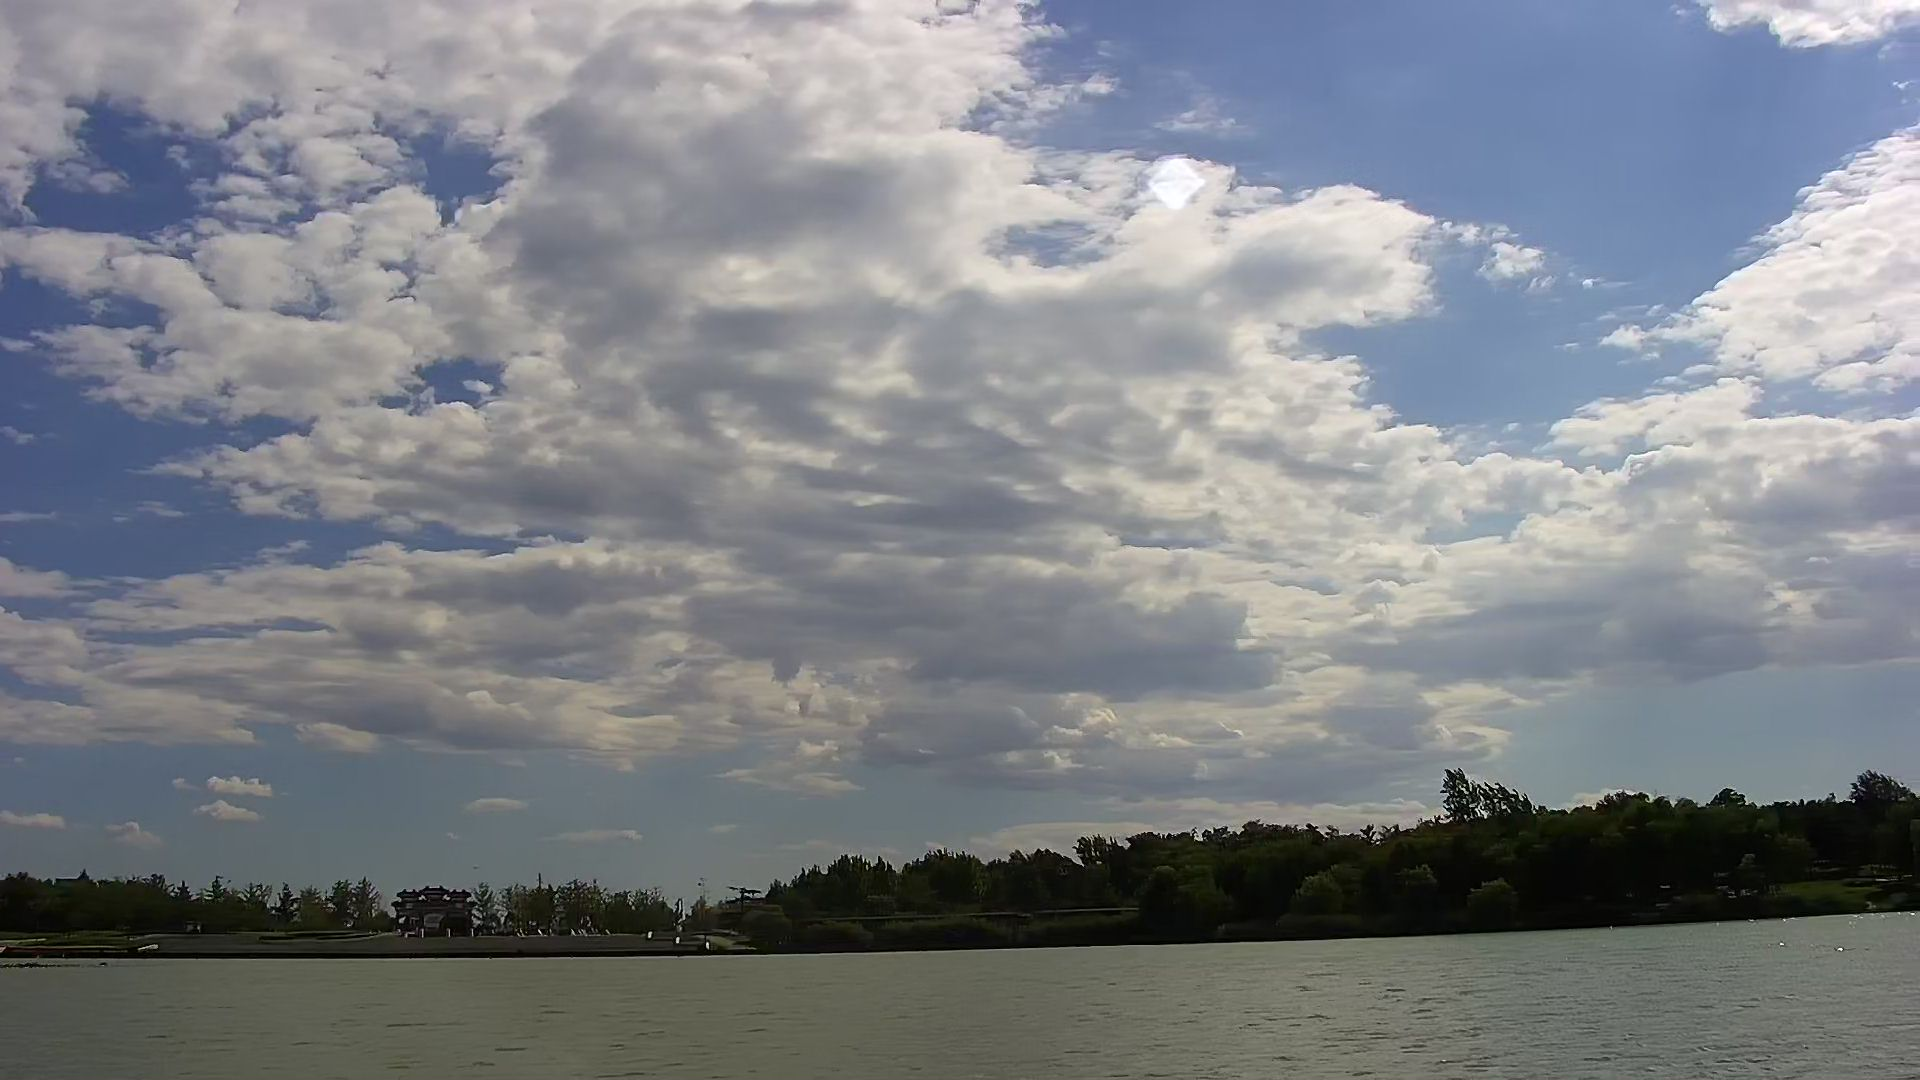harbor: (179, 920, 767, 965)
